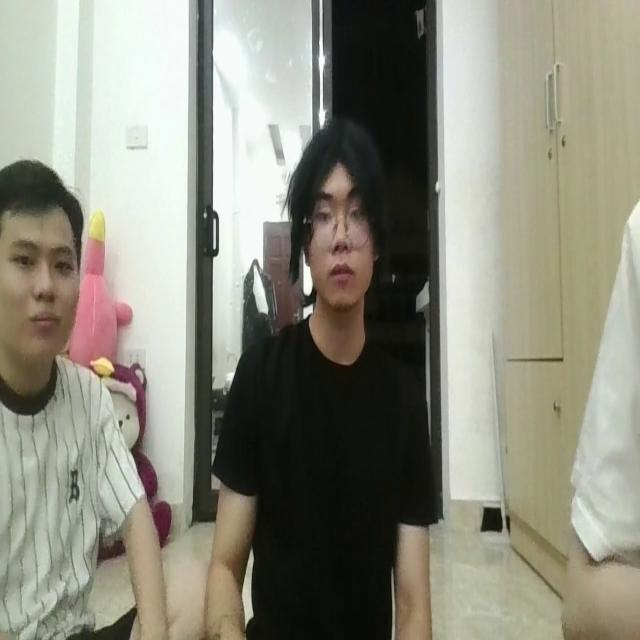extra_person: (0, 147, 173, 640)
student: (196, 113, 440, 640)
